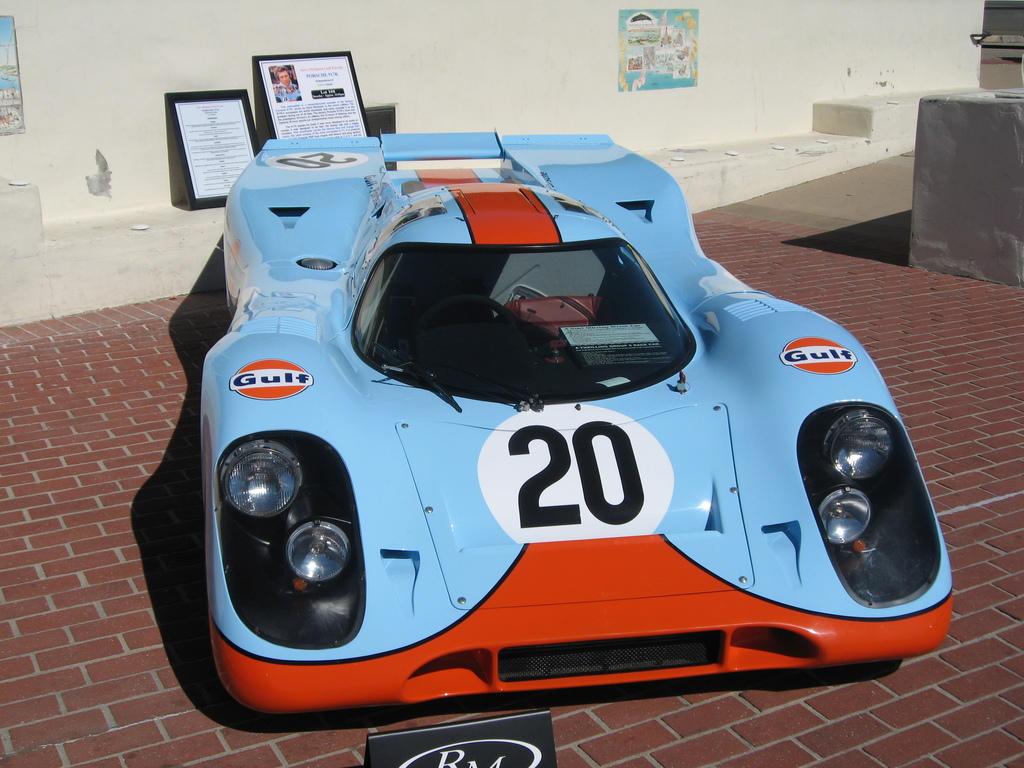Car: (199, 129, 951, 712)
